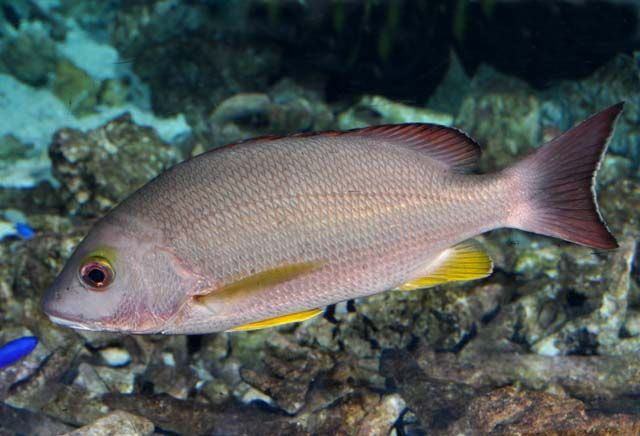fish: (45, 100, 627, 336)
